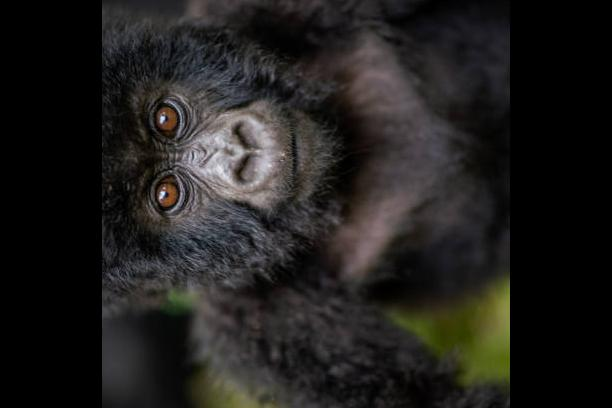goriile_montagne: (102, 0, 507, 408)
